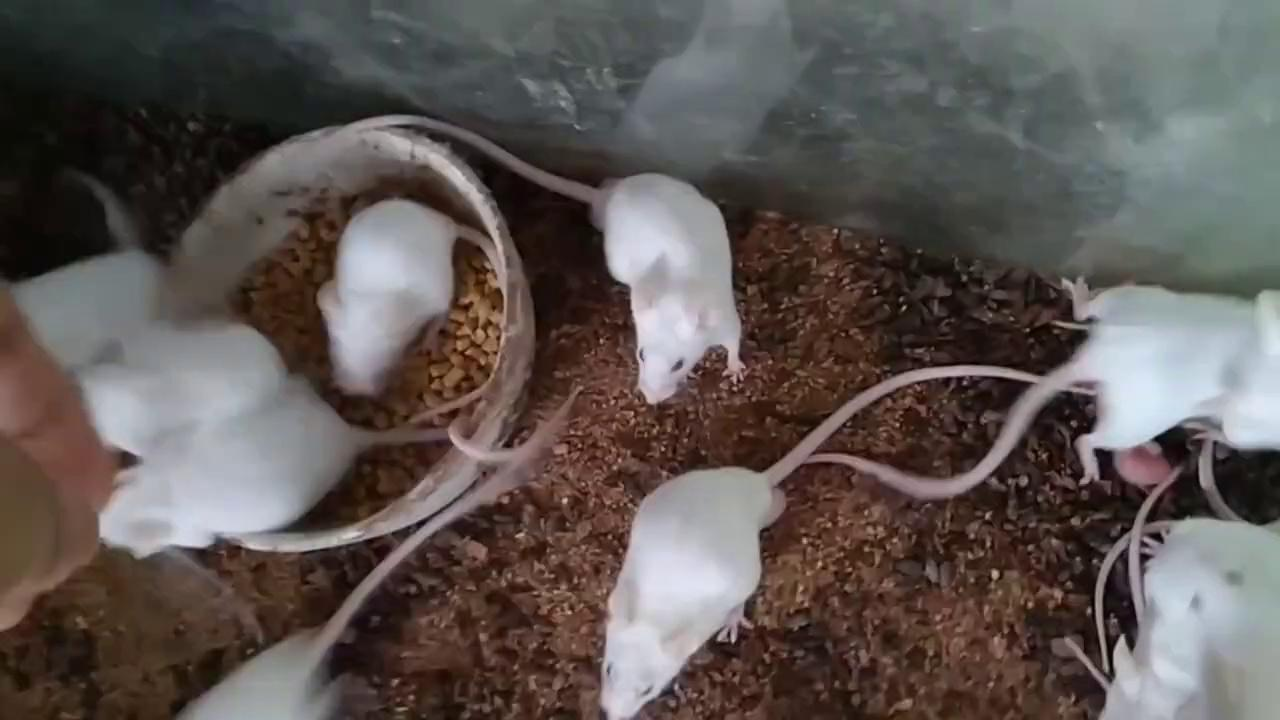rat: (599, 364, 1097, 720), (332, 113, 750, 404), (803, 277, 1280, 498), (171, 447, 550, 720), (99, 379, 584, 557), (77, 316, 288, 458)
